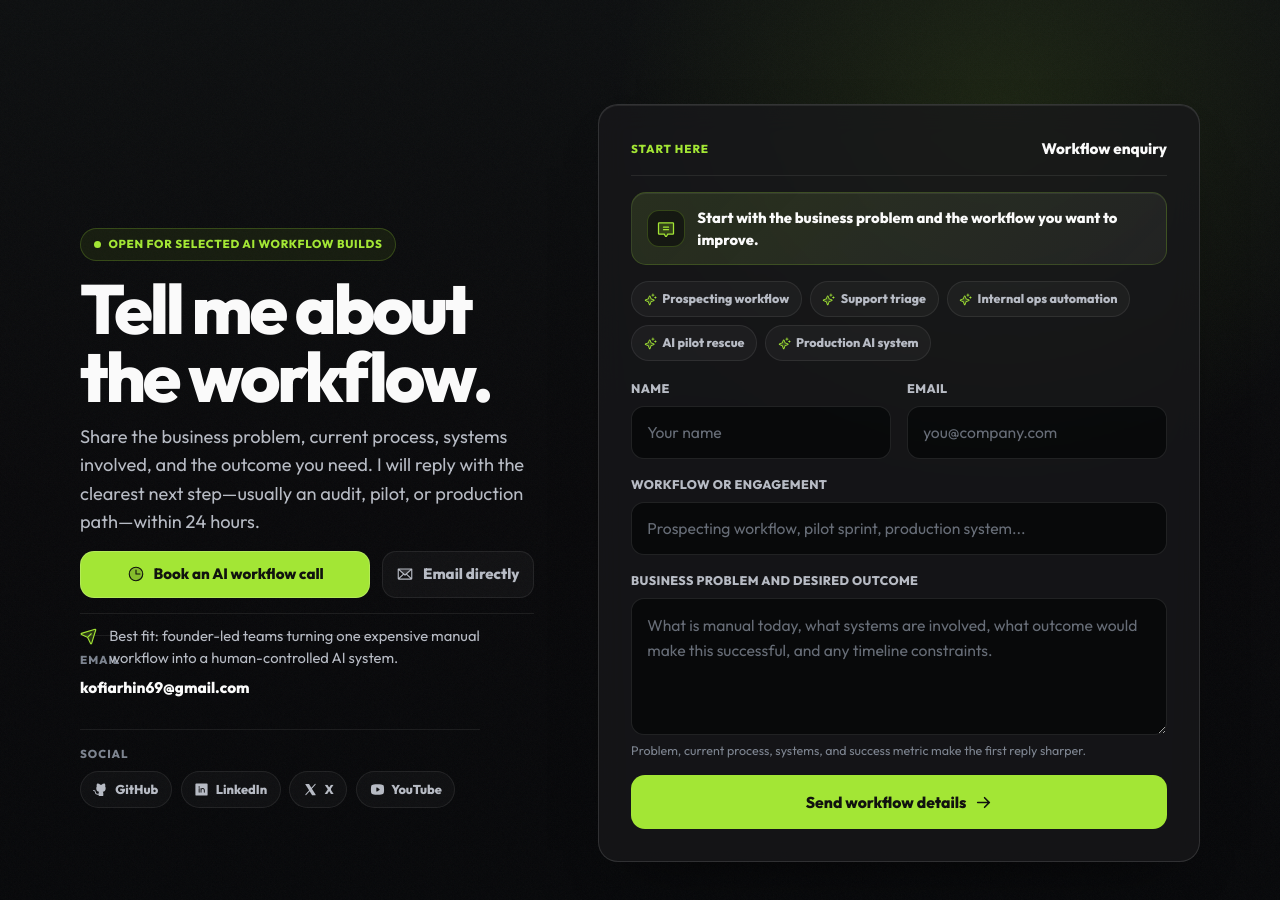
Test: Contact page empty state › hides the empty state after the visitor types in a field
The width and height of the screenshot is (1280, 900).
Step 1. Type "Ava Morgan" into the field labelled "Name" → (761, 432), box [631, 406, 891, 459]
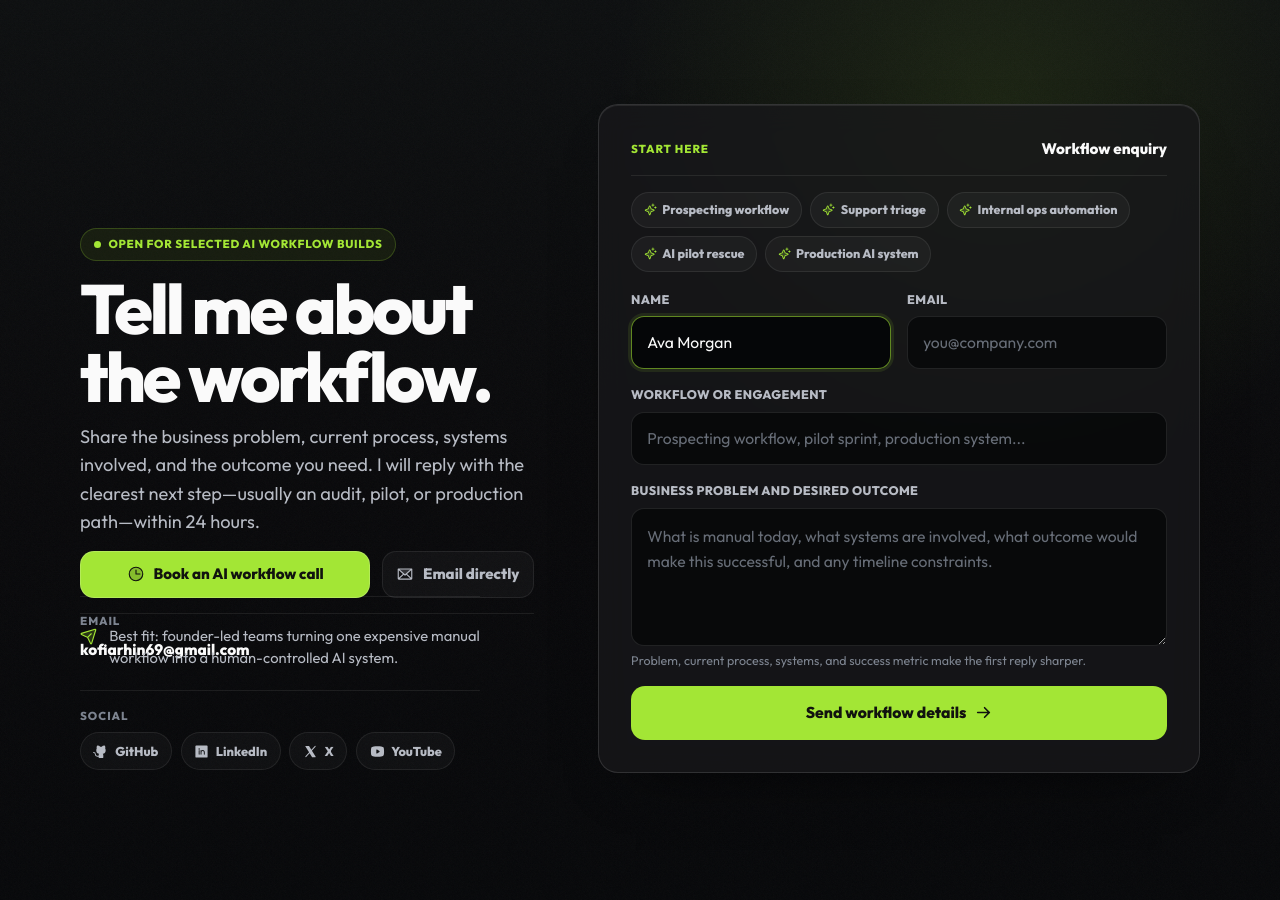
Check: the text "Start with the business problem and the workflow you want to improve." is gone
